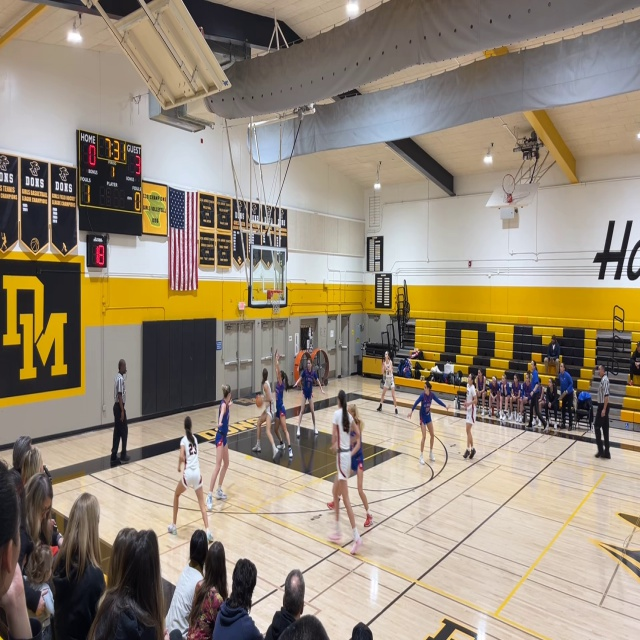Basketball: (255, 395, 263, 408)
